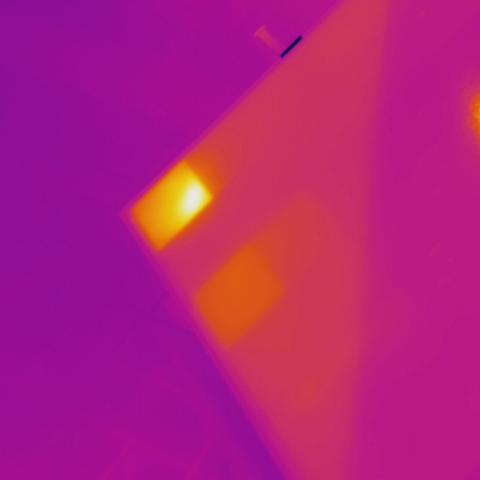fault: (191, 242, 291, 351), (123, 154, 219, 254)
